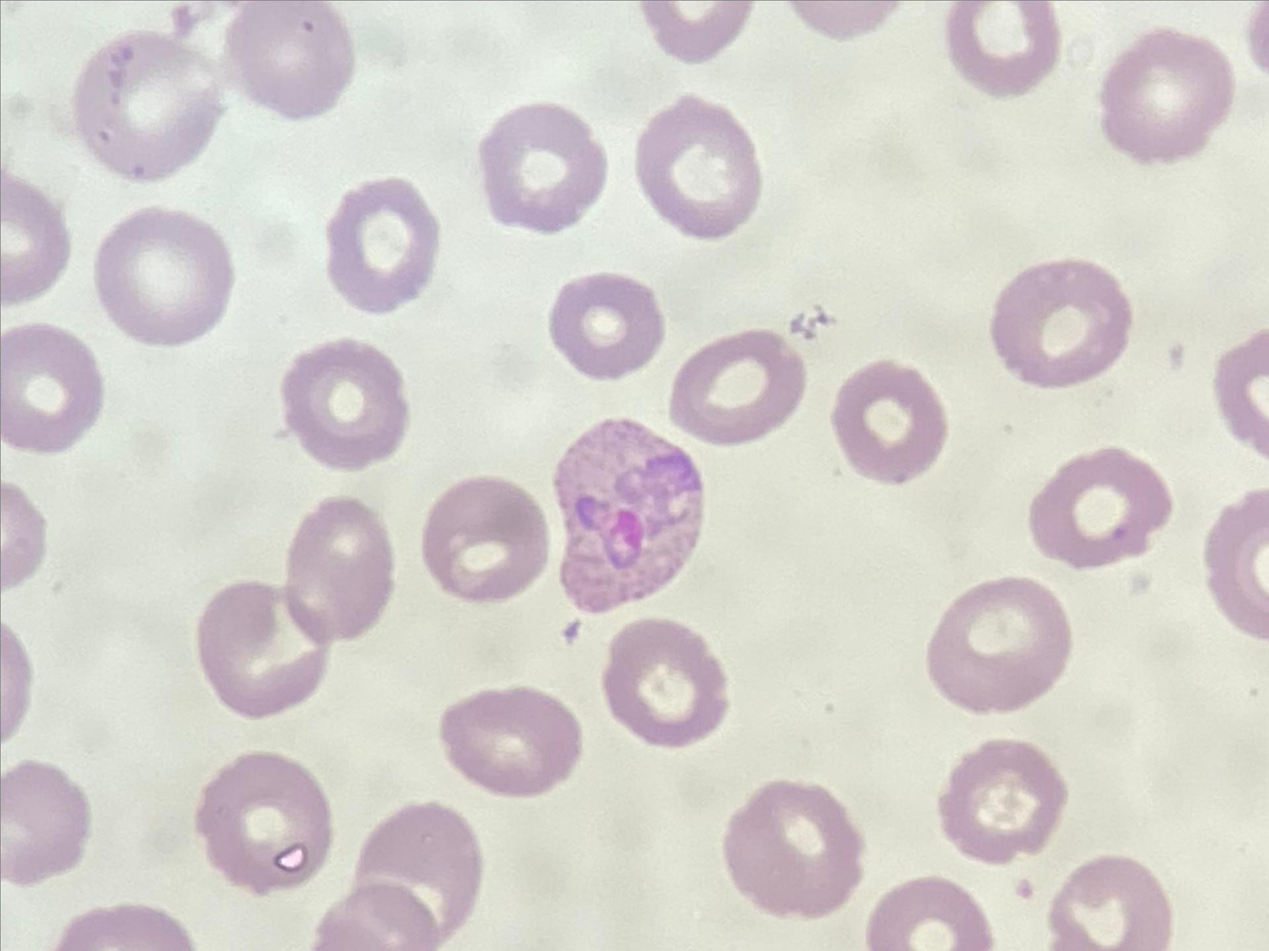Infected: (562, 331, 718, 534)
Uninfected: (1044, 771, 1194, 919), (788, 7, 935, 149), (197, 237, 338, 373), (406, 30, 542, 169), (937, 54, 1072, 194), (1034, 605, 1171, 741), (940, 231, 1072, 368), (97, 380, 241, 504), (35, 787, 167, 921), (137, 562, 276, 689), (506, 712, 631, 853), (537, 202, 666, 331), (859, 481, 987, 610), (661, 719, 787, 847), (718, 348, 845, 471), (874, 311, 987, 449), (465, 506, 598, 623), (203, 85, 327, 210), (687, 153, 826, 264), (830, 638, 946, 771), (321, 467, 442, 591), (913, 833, 1041, 948), (1165, 497, 1269, 623), (605, 571, 719, 678), (96, 0, 218, 94), (1178, 63, 1268, 187), (208, 853, 321, 950), (280, 1, 399, 71), (1202, 649, 1266, 778)
